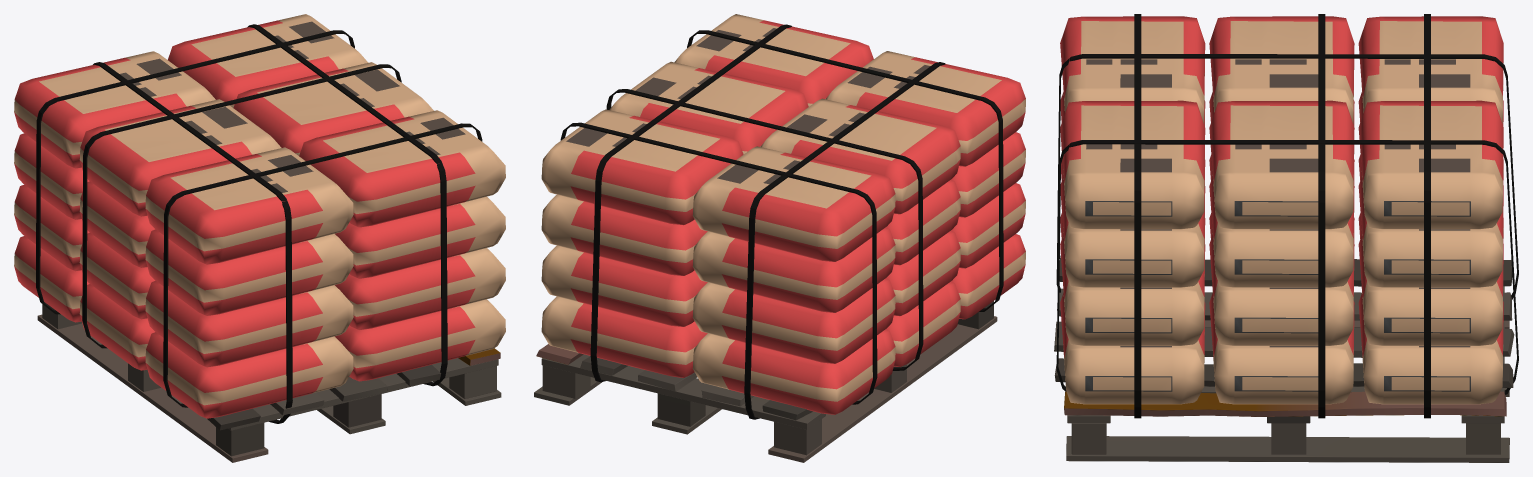
The model's file is SM_PalletteCementBags_A_B.fbx.
3 renders of one model, left to right at view 1: azimuth 30°, elevation 25°; view 2: azimuth 150°, elevation 25°; view 3: azimuth 270°, elevation 25°, orthographic. The views are drawn at different scales.
Parts seen in each view (by area): view 1: SM_PalletteCementBags_A_B; view 2: SM_PalletteCementBags_A_B; view 3: SM_PalletteCementBags_A_B.
Part boxes in pixels (x1=…): SM_PalletteCementBags_A_B: x1=14, y1=14, x2=505, y2=462; SM_PalletteCementBags_A_B: x1=534, y1=14, x2=1025, y2=462; SM_PalletteCementBags_A_B: x1=1054, y1=14, x2=1518, y2=462.
Bounding box in the file's own units: 115 × 87.93 × 129.
